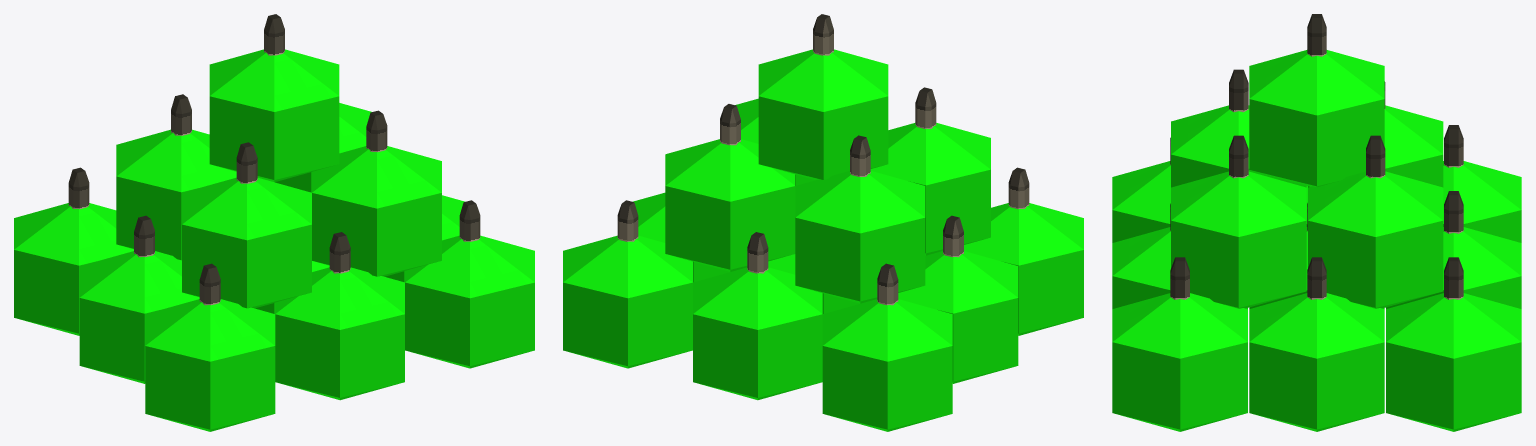
The model's file is stickypile.gltf.
3 views of the same model, side by side, from view 1: azimuth 30°, elevation 25°; view 2: azimuth 150°, elevation 25°; view 3: azimuth 270°, elevation 25° (orthographic). The views are drawn at different scales.
Parts seen in each view (by area): view 1: sphere (×11), beveled_cuboid (×9); view 2: sphere (×12), beveled_cuboid (×9); view 3: sphere (×12), beveled_cuboid (×9).
Part boxes in pixels (bbox=[...]): sphere (×11): bbox=[14, 49, 534, 431]; beveled_cuboid (×9): bbox=[68, 14, 480, 305]; sphere (×12): bbox=[563, 49, 1083, 431]; beveled_cuboid (×9): bbox=[617, 14, 1029, 305]; sphere (×12): bbox=[1112, 50, 1521, 431]; beveled_cuboid (×9): bbox=[1170, 14, 1463, 299].
Bounding box in the file's own units: 1.5 × 1.23 × 1.31.
1 material, 1 textured.
